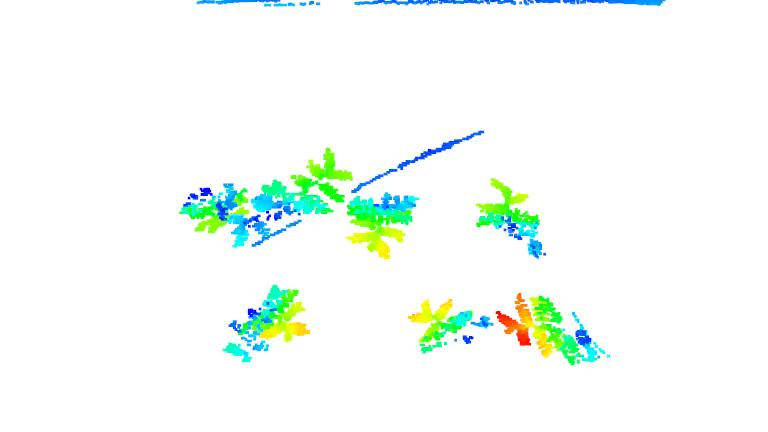chickpea: (494, 292, 606, 364), (253, 145, 355, 214), (222, 283, 309, 362), (176, 182, 277, 249), (473, 178, 550, 261), (347, 190, 419, 261), (405, 297, 489, 350)
